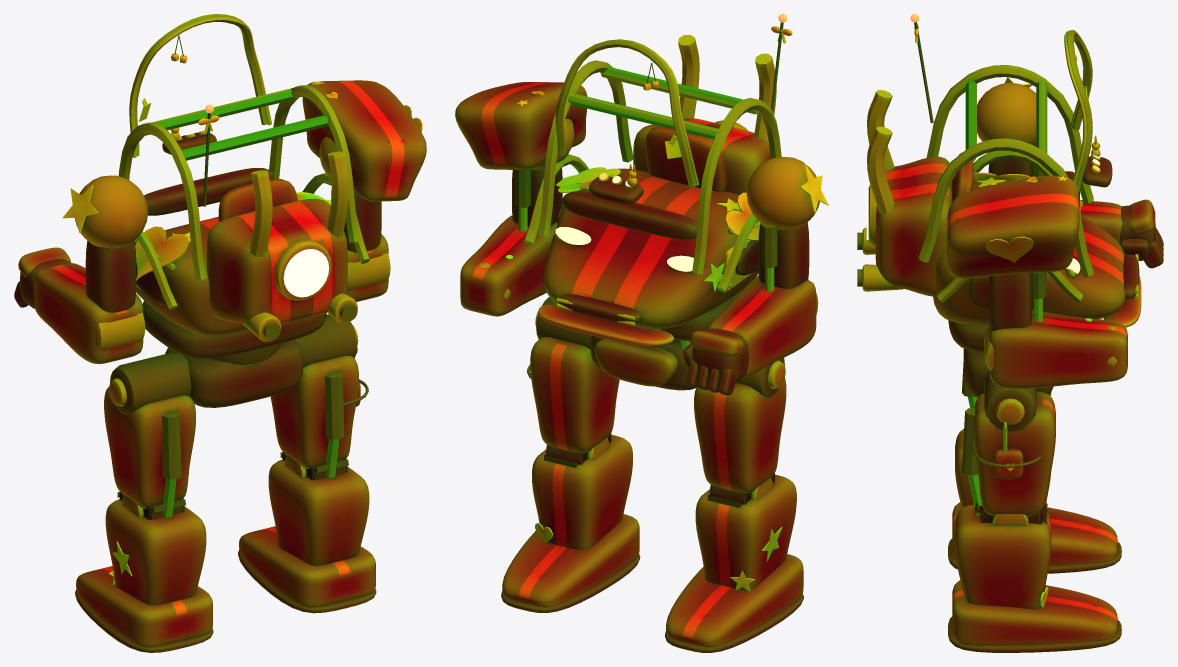
Rendered from titan_scrap.glb.
3 renders of one model, left to right at view 1: azimuth 30°, elevation 25°; view 2: azimuth 150°, elevation 25°; view 3: azimuth 270°, elevation 25°, orthographic. The views are drawn at different scales.
Parts seen in each view (by area): view 1: LegLMesh, LegRMesh, Engine, ArmLMesh, Cage, ArmRMesh, Torso, Pelvis, Cockpit, Core; view 2: LegLMesh, LegRMesh, Torso, ArmLMesh, Cage, ArmRMesh, Engine, Cockpit, Pelvis, Eye; view 3: LegRMesh, ArmRMesh, Engine, Cage, Torso, ArmLMesh, LegLMesh, Cockpit, Pelvis.
Part boxes in pixels (x1,y1,x2,y2): LegLMesh: (75, 352, 213, 652); LegRMesh: (238, 314, 376, 613); Engine: (198, 104, 357, 341); ArmLMesh: (14, 175, 148, 364); Cage: (118, 85, 369, 310); ArmRMesh: (302, 80, 426, 301); Torso: (134, 192, 331, 358); Pelvis: (165, 339, 303, 407); Cockpit: (129, 14, 271, 157); Core: (283, 249, 329, 297); LegLMesh: (665, 358, 803, 652); LegRMesh: (501, 297, 640, 612); Torso: (538, 167, 760, 346); ArmLMesh: (683, 156, 828, 395); Cage: (524, 60, 781, 292); ArmRMesh: (455, 82, 587, 316); Engine: (633, 14, 792, 194); Cockpit: (555, 39, 698, 204); Pelvis: (590, 335, 696, 390); Eye: (555, 227, 693, 271); LegRMesh: (948, 371, 1121, 652); ArmRMesh: (947, 175, 1127, 388); Engine: (857, 14, 952, 296); Cage: (918, 65, 1093, 302); Torso: (933, 172, 1141, 352); ArmLMesh: (977, 77, 1163, 268); LegLMesh: (948, 362, 1121, 573); Cockpit: (1064, 30, 1112, 191); Pelvis: (963, 348, 1053, 397).
Size of the model in its own units: 4.48 by 7.1 by 3.52.
